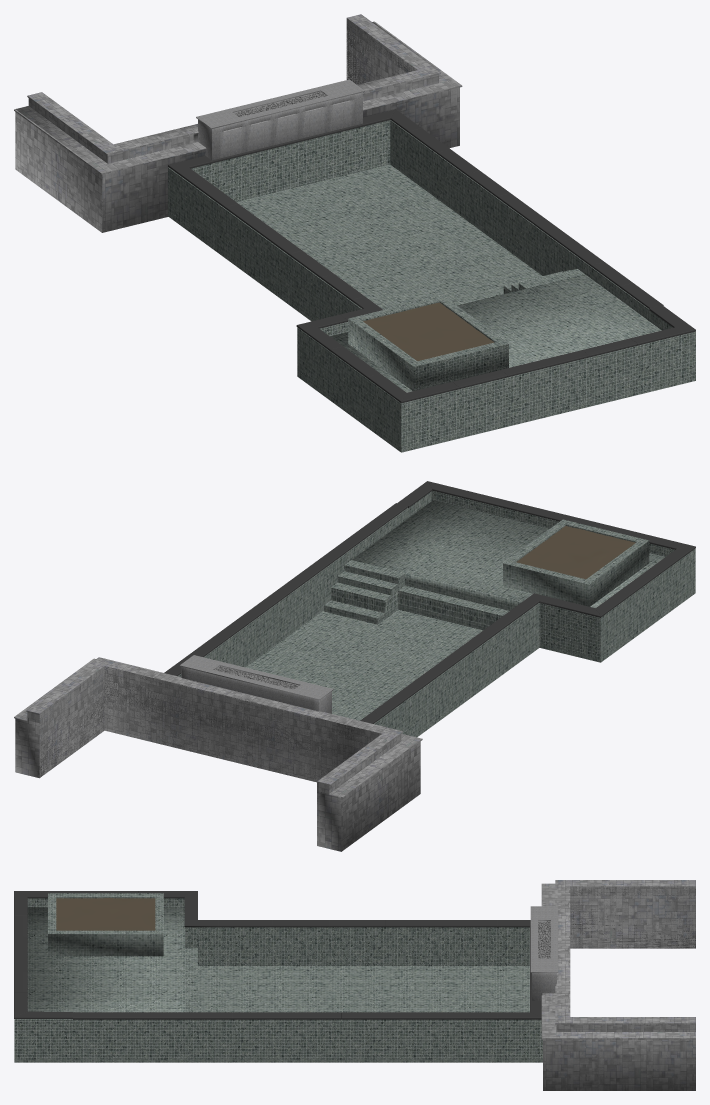
The model's file is pool_tiles.gltf.
The picture shows the model from 3 angles, top to bottom: view 1: azimuth 30°, elevation 25°; view 2: azimuth 150°, elevation 25°; view 3: azimuth 270°, elevation 25°; orthographic projection. The views are drawn at different scales.
Visible parts, largest first — view 1: Box499038, Color_222, Object34285, Object34284, Plane226, Object34287, Rectangle088, Object34286; view 2: Box499038, Color_222, Object34285, Plane226, Object34287, Object34284, Rectangle088; view 3: Box499038, Color_222, Object34285, Plane226, Object34287, Rectangle088, Object34286, Object34284, red_granite010.
Boxes of the visible parts, x1,y1,x2,y2 form: Box499038: (168, 120, 695, 452); Color_222: (14, 14, 462, 232); Object34285: (194, 128, 663, 378); Object34284: (198, 91, 362, 160); Plane226: (363, 302, 493, 361); Object34287: (367, 305, 695, 403); Rectangle088: (196, 79, 364, 129); Object34286: (168, 109, 421, 185); Box499038: (178, 491, 695, 737); Color_222: (14, 657, 422, 851); Object34285: (176, 503, 665, 715); Plane226: (516, 526, 635, 579); Object34287: (397, 481, 695, 570); Object34284: (181, 666, 331, 713); Rectangle088: (179, 655, 333, 700); Box499038: (14, 893, 542, 1062); Color_222: (541, 880, 695, 1090); Object34285: (72, 891, 497, 1019); Plane226: (56, 898, 155, 930); Object34287: (14, 891, 72, 1018); Rectangle088: (530, 906, 557, 972); Object34286: (498, 920, 541, 1019); Object34284: (532, 921, 556, 1000); red_granite010: (538, 921, 550, 958).
Size of the model in its own units: 5.01 by 1.13 by 9.33.
Materials: 5 (2 with a texture image).
